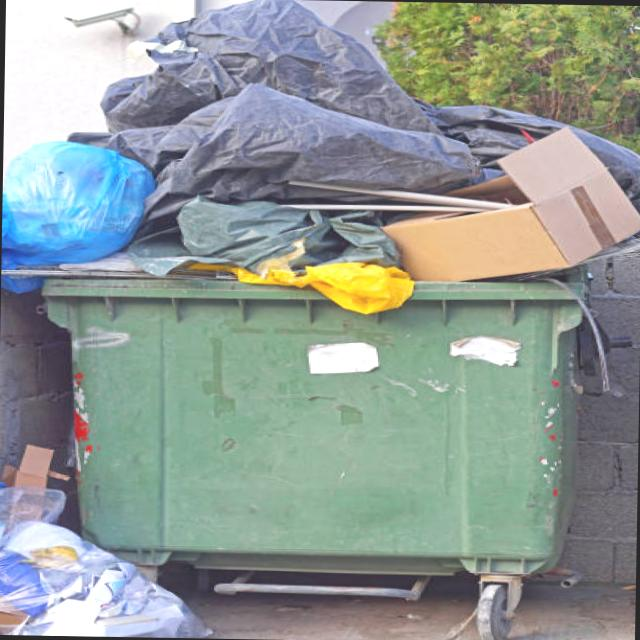garbage: (0, 1, 636, 635)
